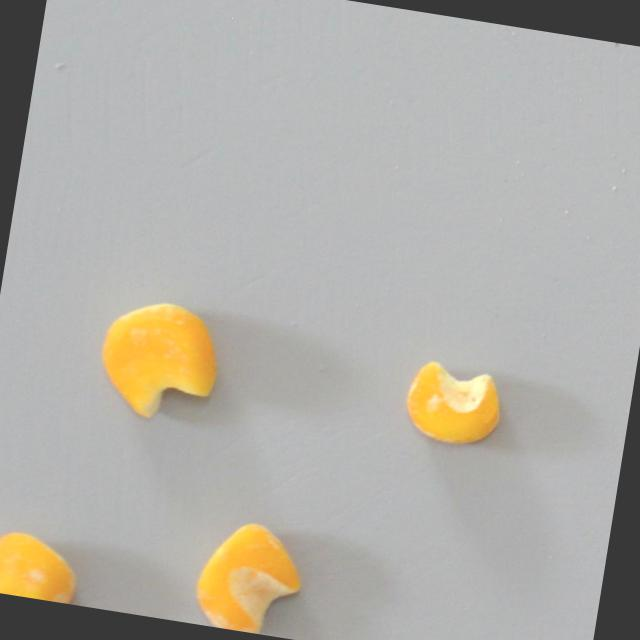pelicula: (96, 290, 224, 423), (190, 515, 311, 640), (402, 357, 509, 451), (0, 527, 86, 605)
